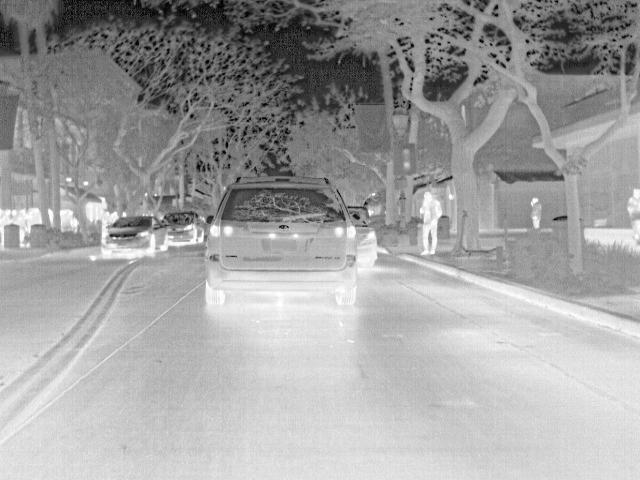car: (201, 175, 361, 313), (98, 214, 169, 258), (345, 205, 382, 276), (163, 211, 207, 247)
person: (416, 190, 443, 254), (624, 186, 639, 235), (528, 194, 544, 230)
